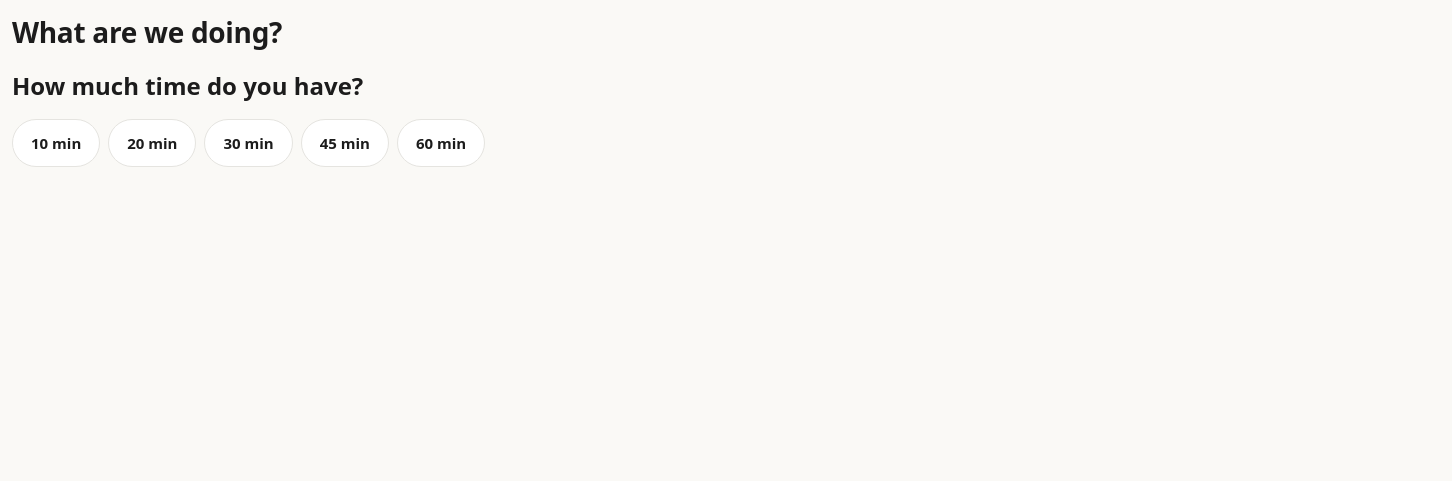
Test: Missions page › builds and shows a mission once a duration is picked
The width and height of the screenshot is (1452, 481).
Click the button "20 min" at {"x": 152, "y": 143}, box [108,119,196,167]
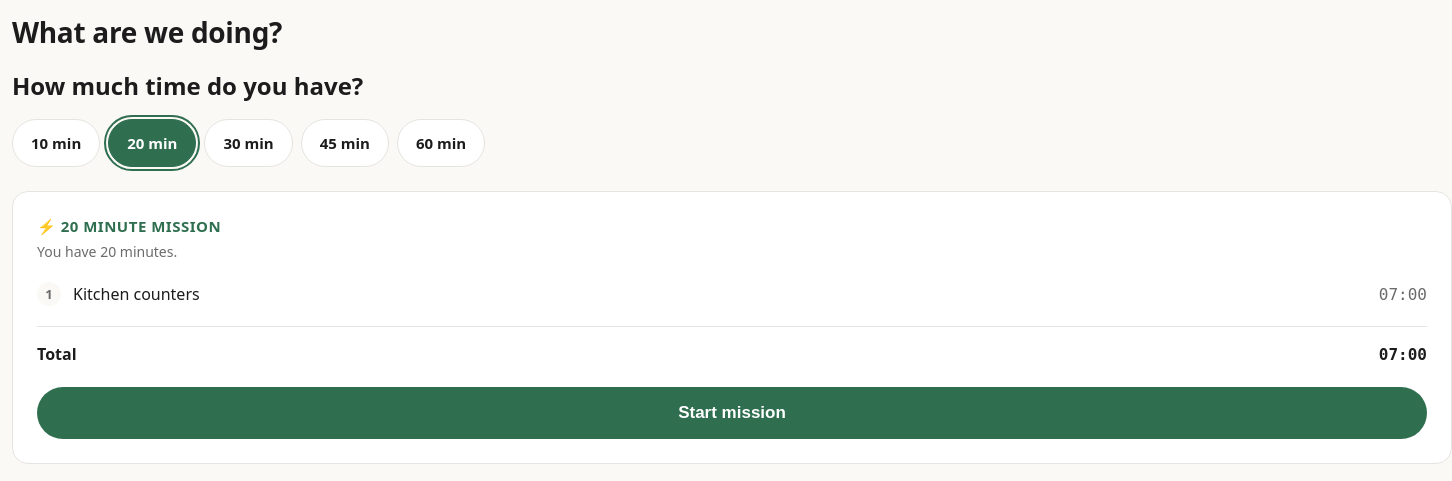
Expected: the text "Kitchen counters" is shown, [73,283,200,305]
Expected: the button "Start mission" is shown, [37,387,1427,439]
